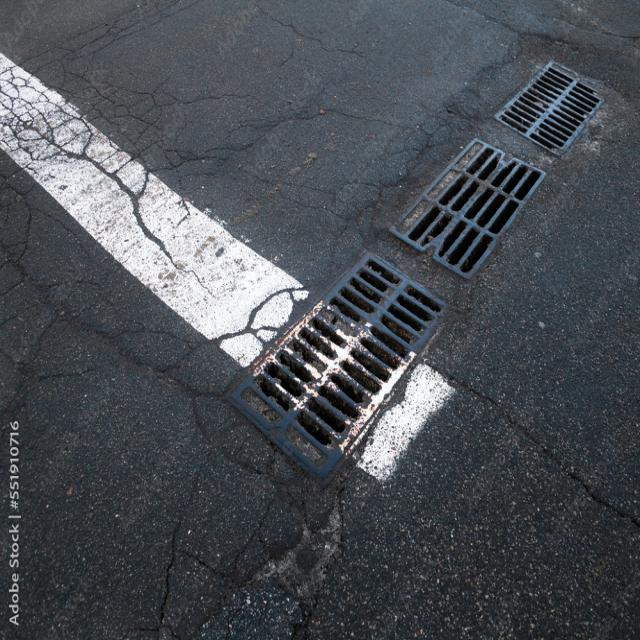Drain Hole: (179, 428, 381, 640), (78, 60, 160, 164)
